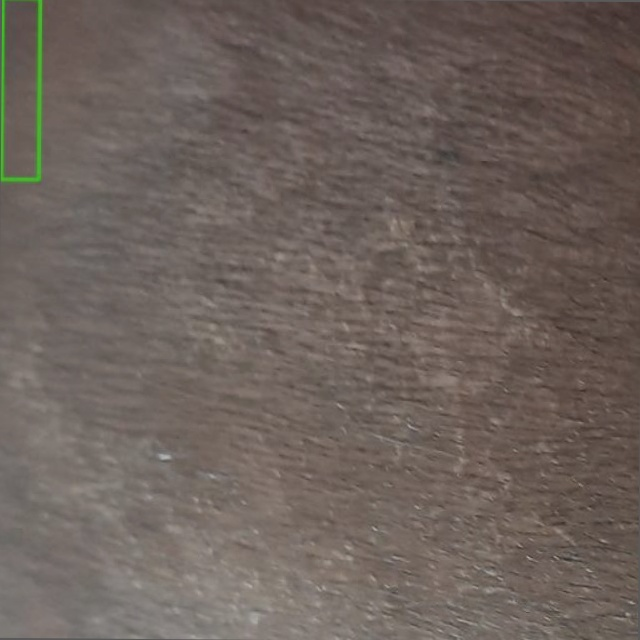Seborrheic Dermatitis: (1, 0, 40, 179)
